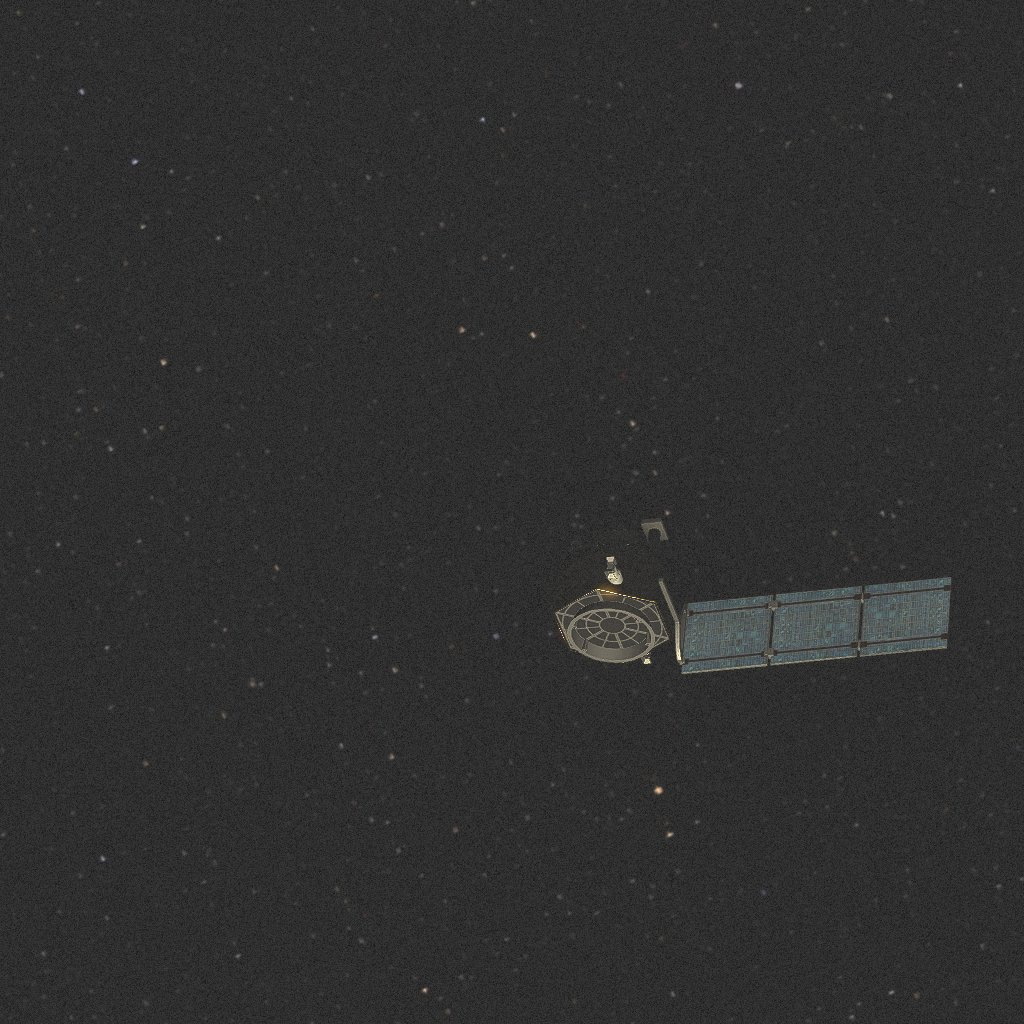earth_observation_sat_1: (552, 518, 951, 674)
